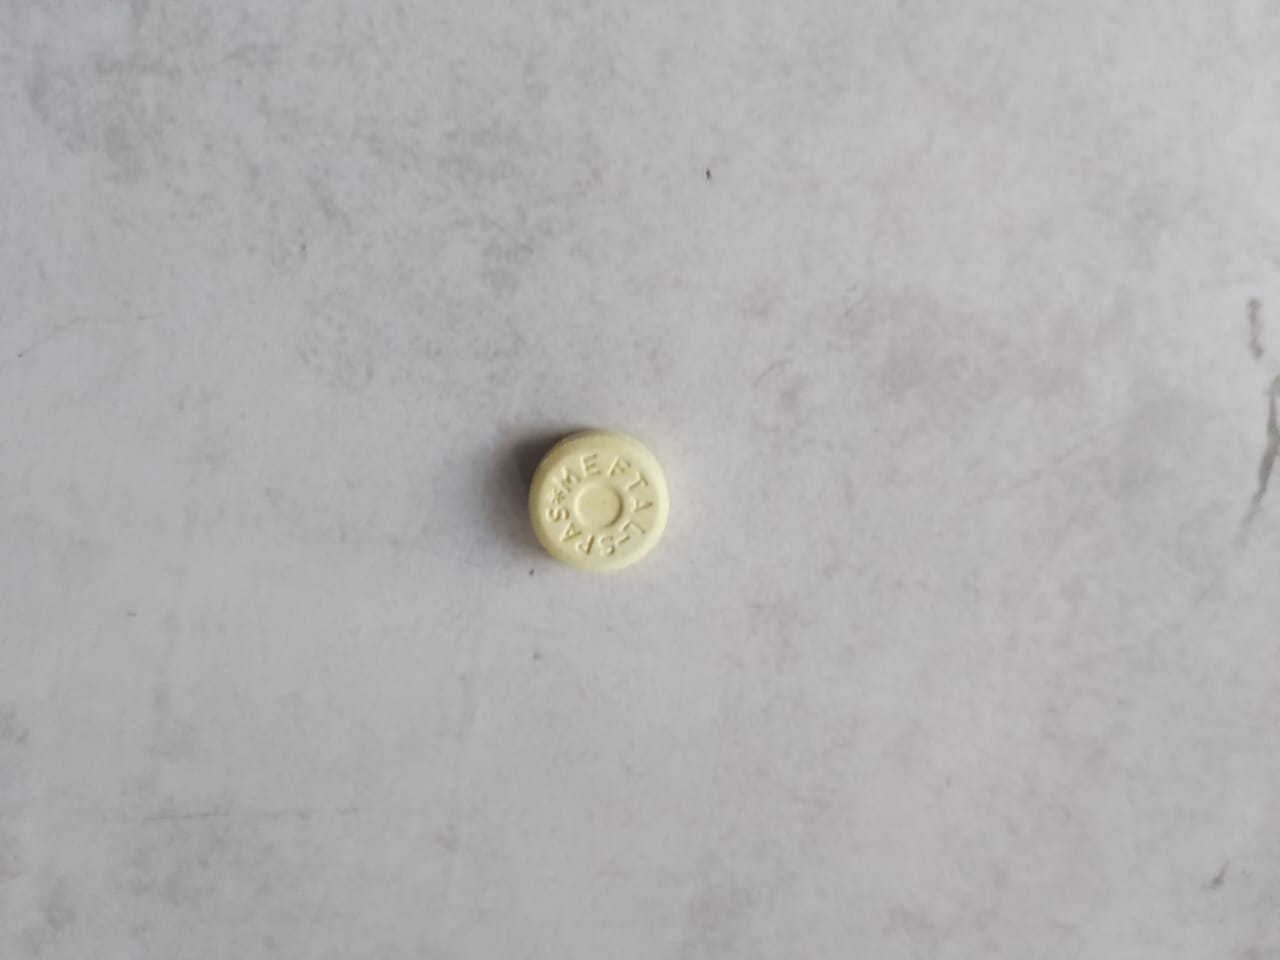Meftal SPAS: (520, 402, 697, 596)
